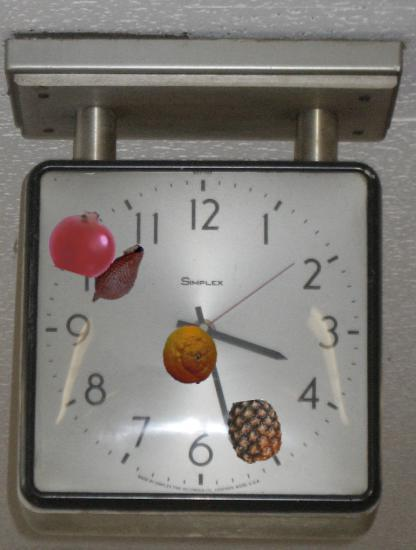Mandarine: (160, 325, 220, 385)
Pineapple: (223, 400, 287, 464)
Redcurrant: (50, 208, 119, 277)
Salak: (81, 239, 157, 315)
